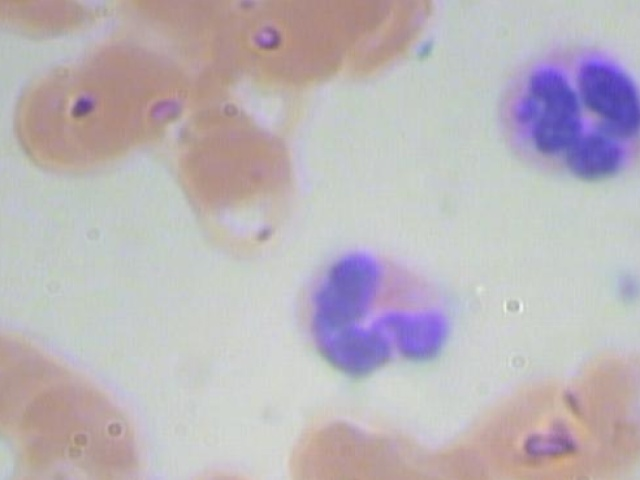Platelets: (602, 268, 640, 316)
RBC: (174, 122, 306, 257), (1, 56, 133, 191), (276, 0, 399, 33)
WBC: (287, 240, 464, 387), (484, 31, 640, 178)
